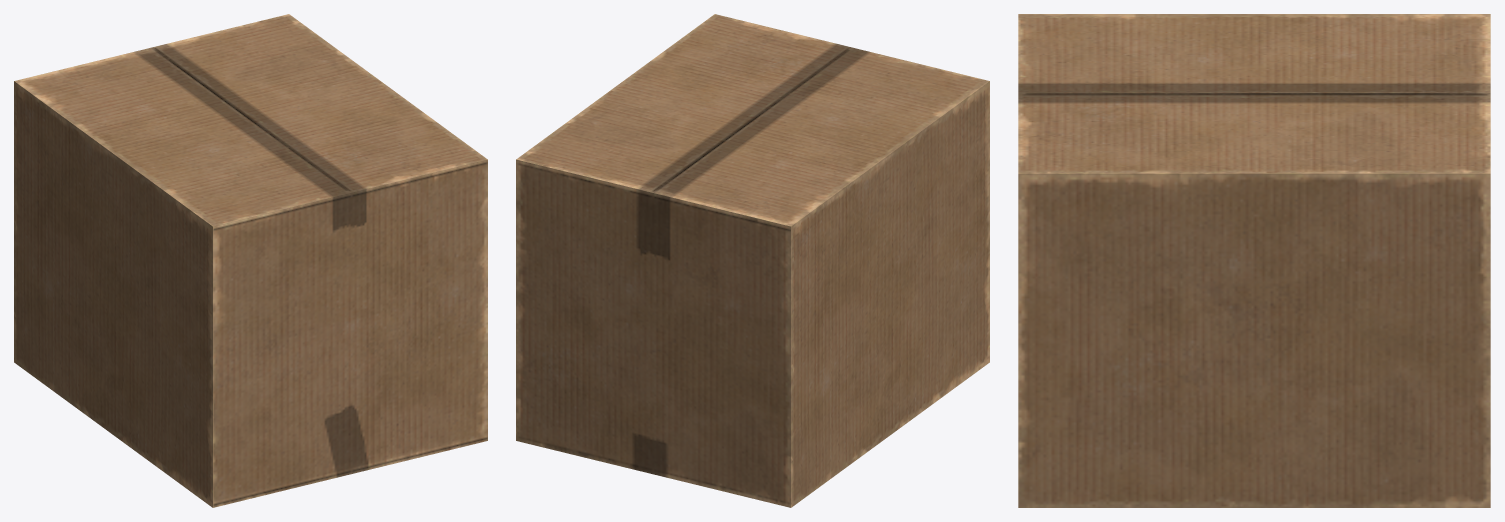
Rendered from HH_Cardboard_Box_06.fbx.
3 views of the same model, side by side, from view 1: azimuth 30°, elevation 25°; view 2: azimuth 150°, elevation 25°; view 3: azimuth 270°, elevation 25° (orthographic). The views are drawn at different scales.
Visible parts, largest first — view 1: HH_Cardboard_Box_06; view 2: HH_Cardboard_Box_06; view 3: HH_Cardboard_Box_06.
Part boxes in pixels (box(x1,y1,x2,y2)): HH_Cardboard_Box_06: box(14, 14, 487, 507); HH_Cardboard_Box_06: box(516, 14, 989, 507); HH_Cardboard_Box_06: box(1018, 14, 1490, 507).
Bounding box in the file's own units: 43.95 × 42.97 × 55.03.
